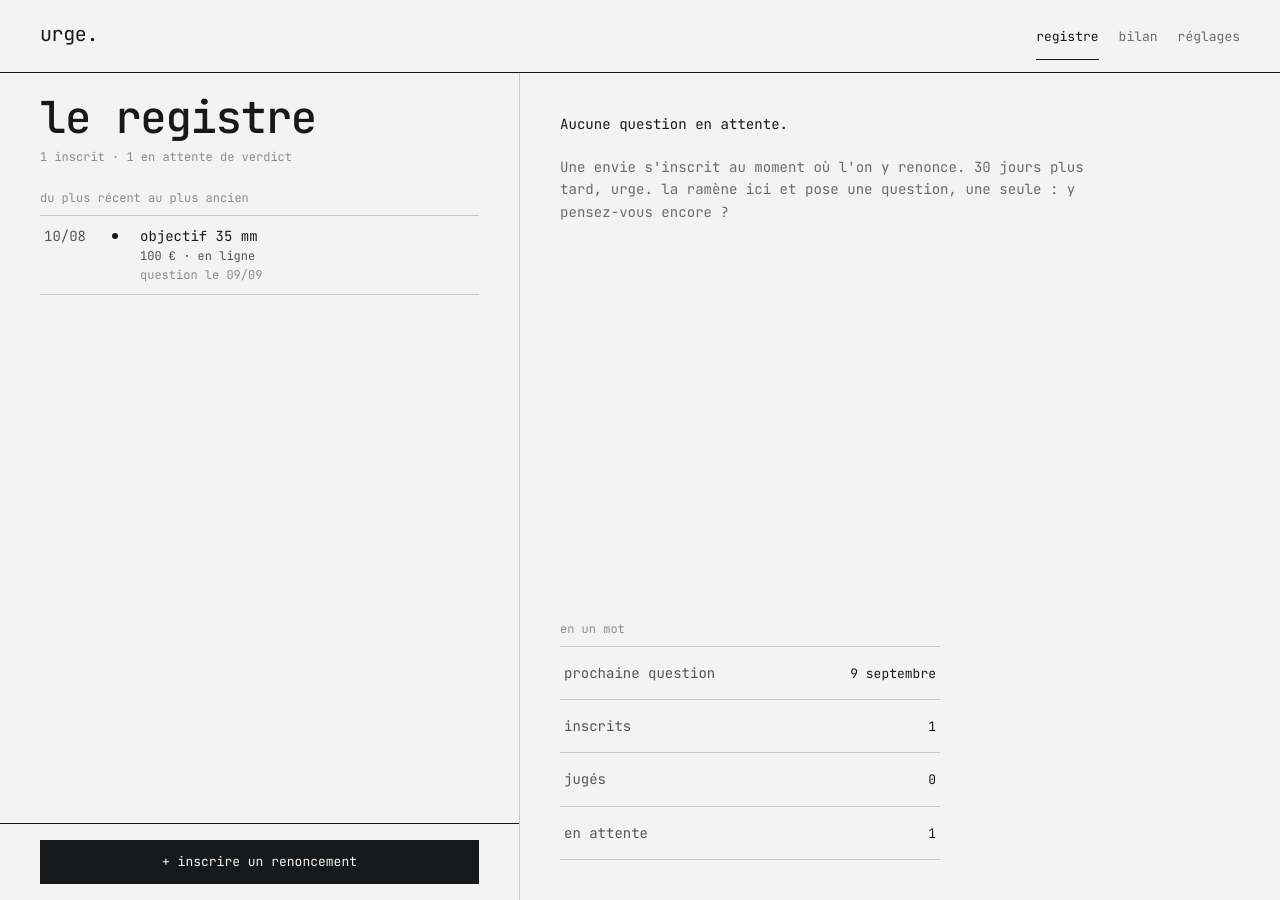
Test: une envie en détail › montre sa chronologie et la retire sur confirmation
Step 1. Click the button with aria-label "objectif 35 mm, inscrit le" → {"x": 65, "y": 236}, box [40,216,479,294]
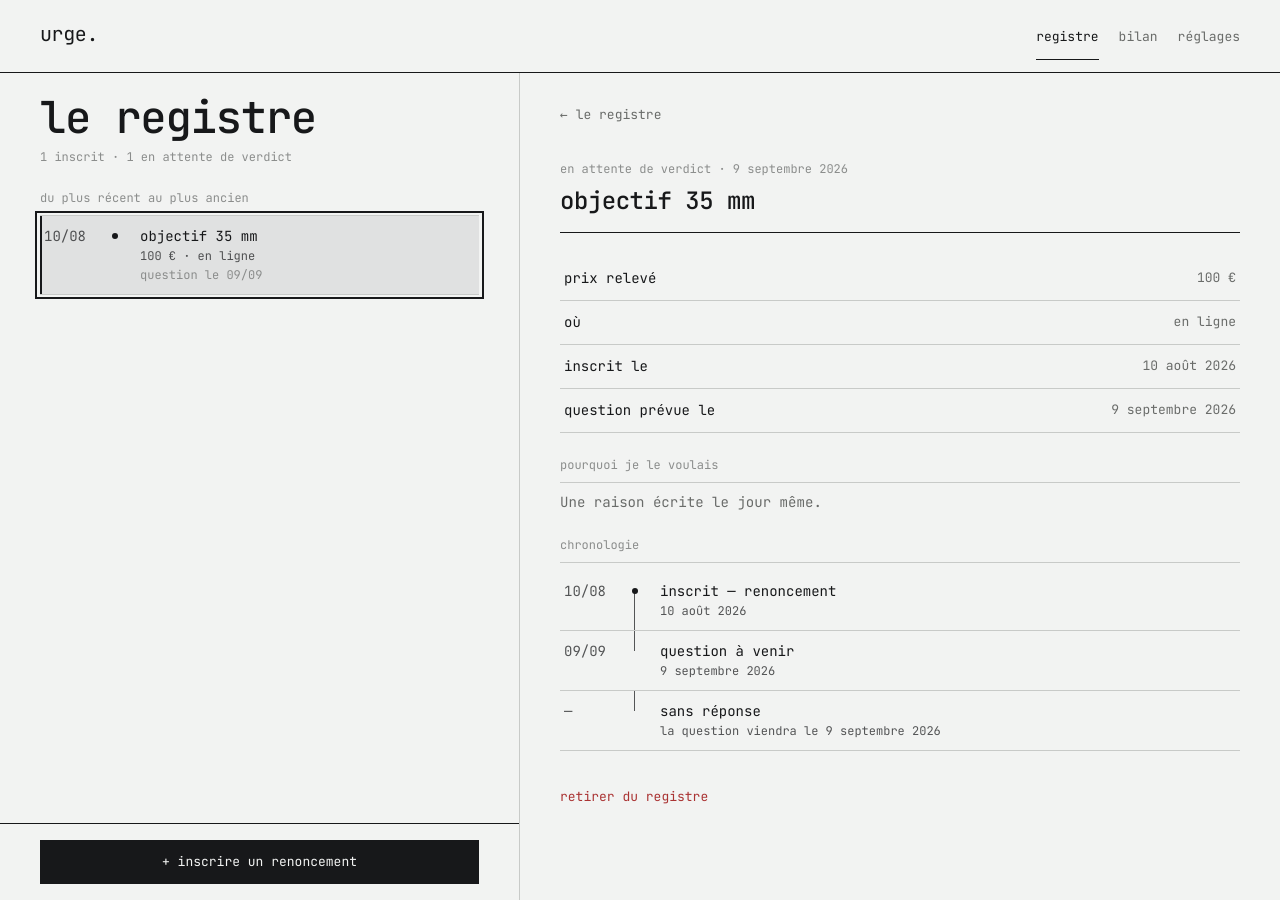
Expected: the text "chronologie" is shown, [560,537,1240,563]
Expected: the text "question à venir" is shown, [660,642,794,660]
Step 2. Click the button "retirer du registre" → {"x": 634, "y": 797}, box [560,775,708,819]
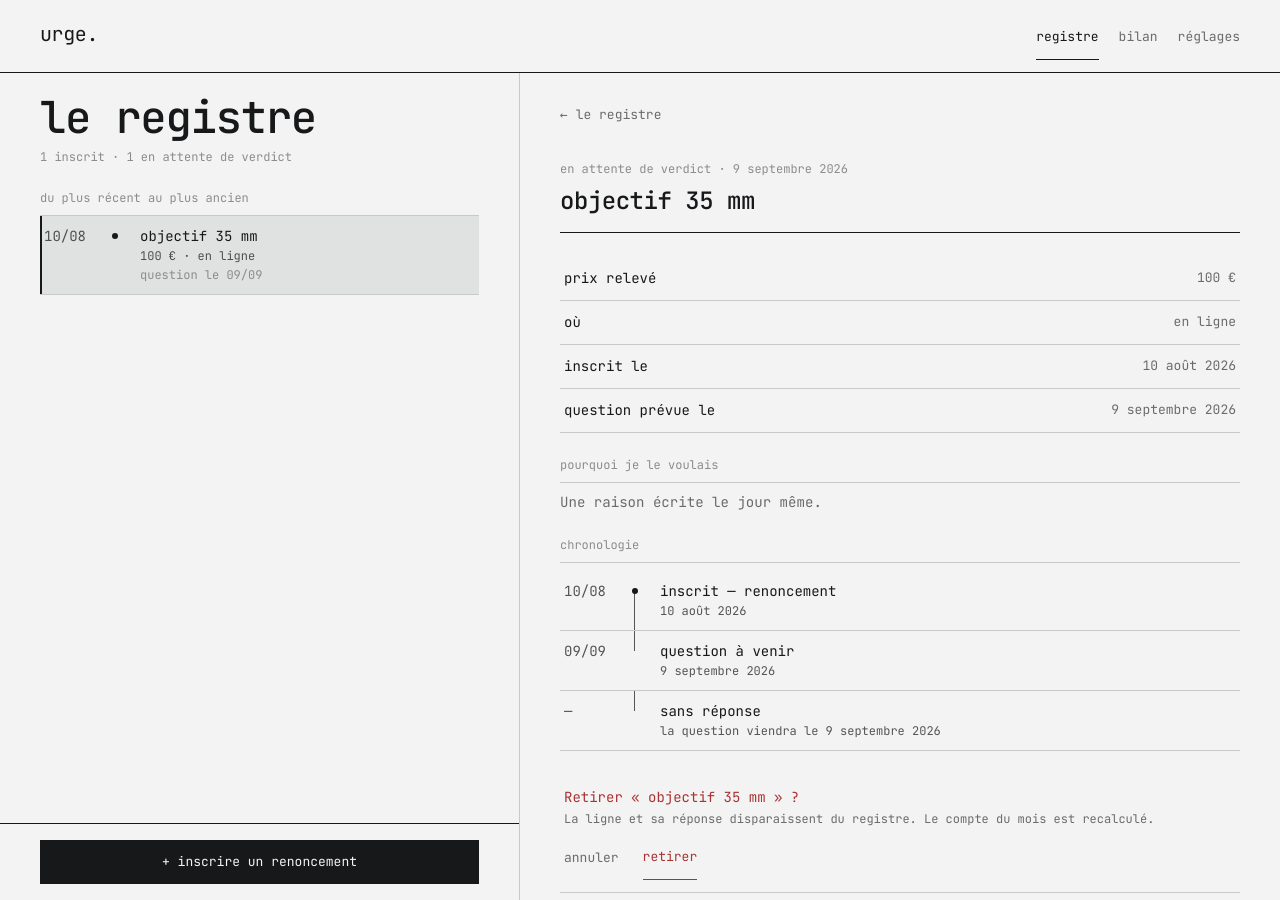
Expected: the text "Retirer « objectif 35 mm » ?" is shown, [564,788,799,806]
Step 3. Click the button "retirer" → {"x": 670, "y": 858}, box [643,836,697,880]
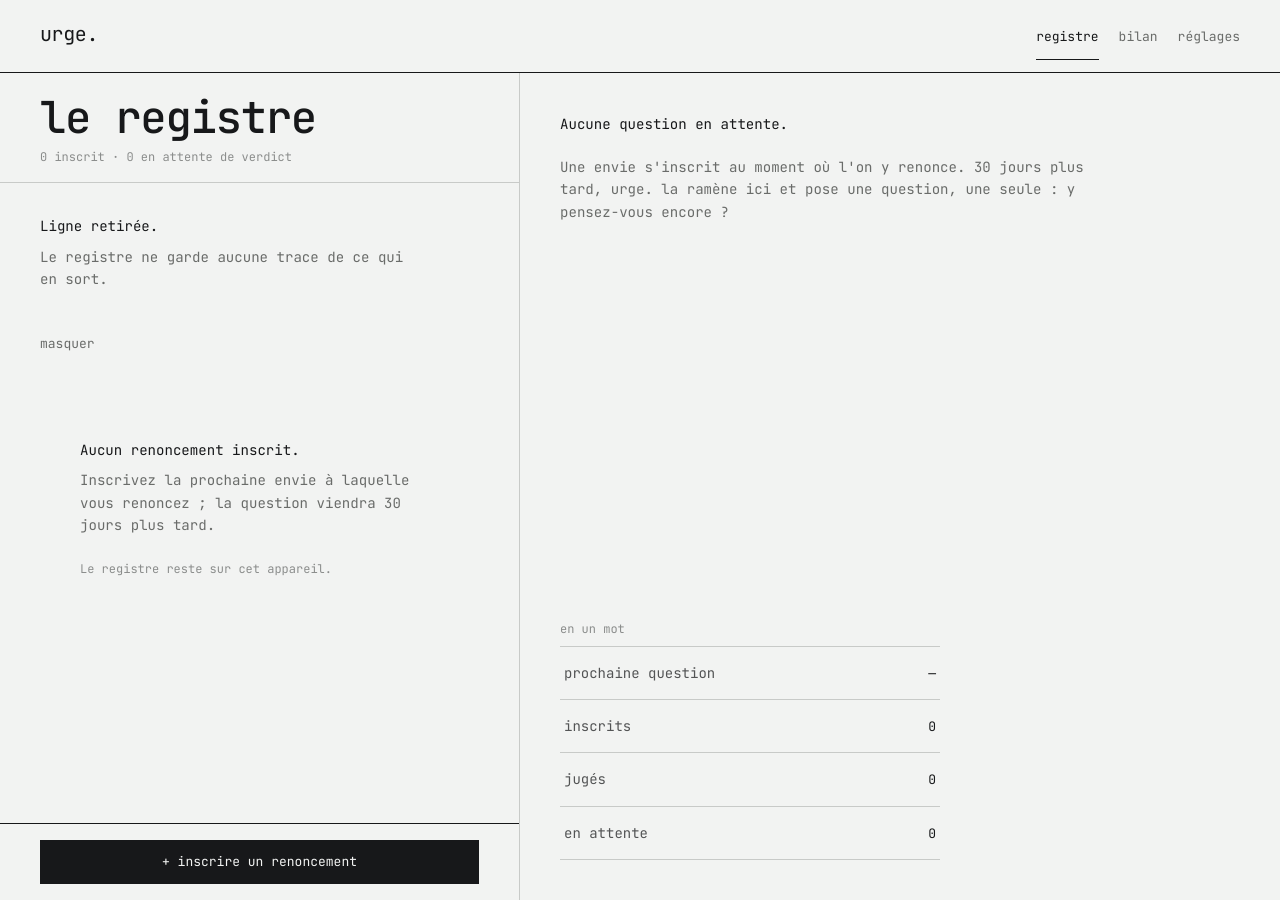
Expected: the text "Ligne retirée." is shown, [40,217,158,235]
Expected: the text "Aucun renoncement inscrit." is shown, [80,441,300,459]
